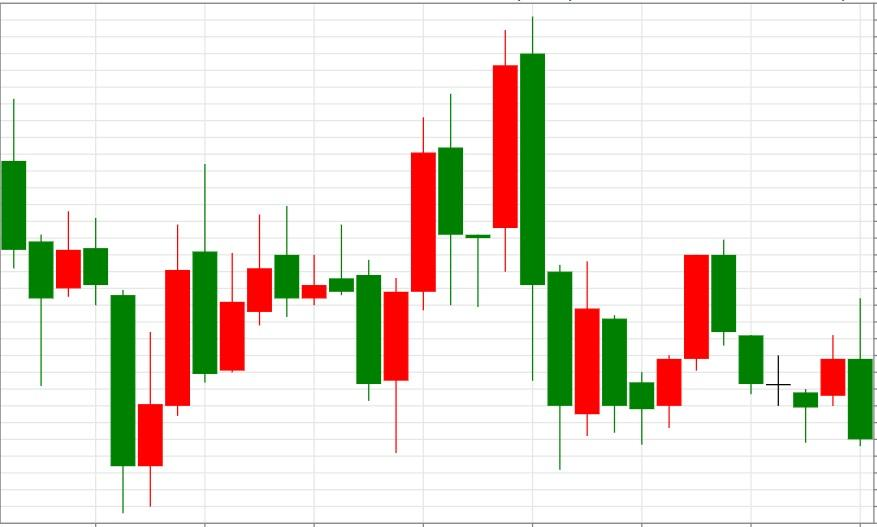bearish_engulfing_fall: (383, 17, 547, 454)
